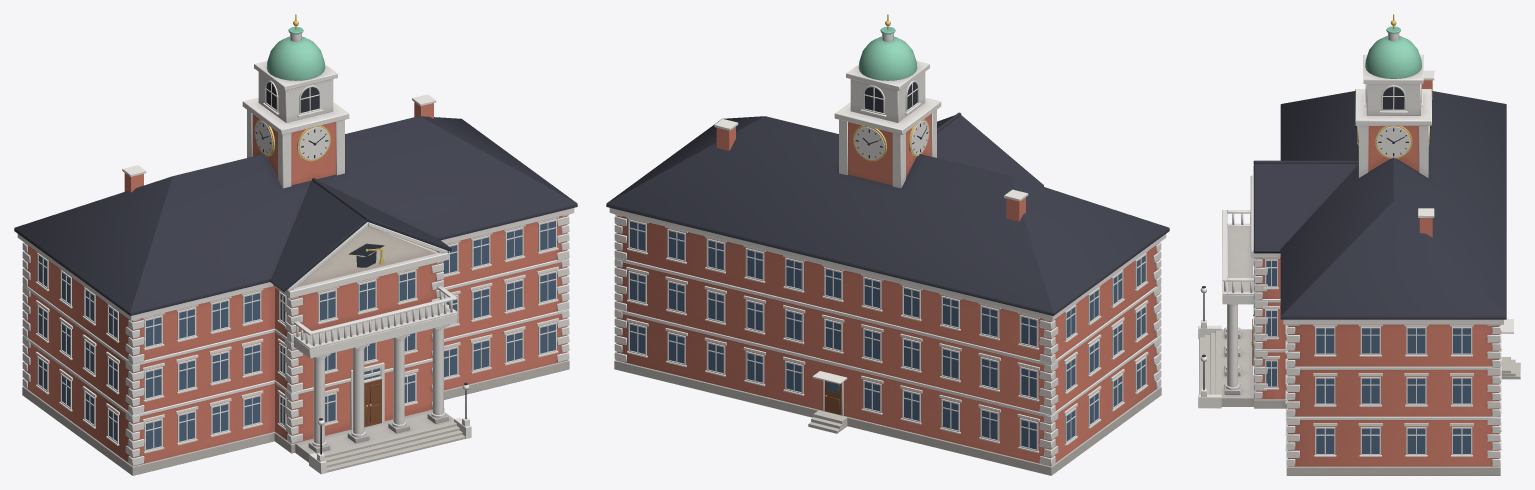
The model's file is university-building.glb.
3 views of the same model, side by side, from view 1: azimuth 30°, elevation 25°; view 2: azimuth 150°, elevation 25°; view 3: azimuth 270°, elevation 25° (orthographic). The views are drawn at different scales.
Parts seen in each view (by area): view 1: university-building_body, university-building_windows, university-building_details; view 2: university-building_body, university-building_windows, university-building_details; view 3: university-building_body, university-building_windows, university-building_details.
Part boxes in pixels (x1=…): university-building_body: x1=14, y1=14, x2=577, y2=475; university-building_windows: x1=35, y1=216, x2=558, y2=453; university-building_details: x1=122, y1=80, x2=471, y2=474; university-building_body: x1=606, y1=14, x2=1169, y2=475; university-building_windows: x1=626, y1=217, x2=1148, y2=453; university-building_details: x1=714, y1=80, x2=1028, y2=433; university-building_body: x1=1221, y1=14, x2=1506, y2=475; university-building_windows: x1=1253, y1=257, x2=1501, y2=456; university-building_details: x1=1198, y1=70, x2=1520, y2=408.
Bounding box in the file's own units: 30.9 × 24.3 × 19.8.
12 materials, 1 textured.
